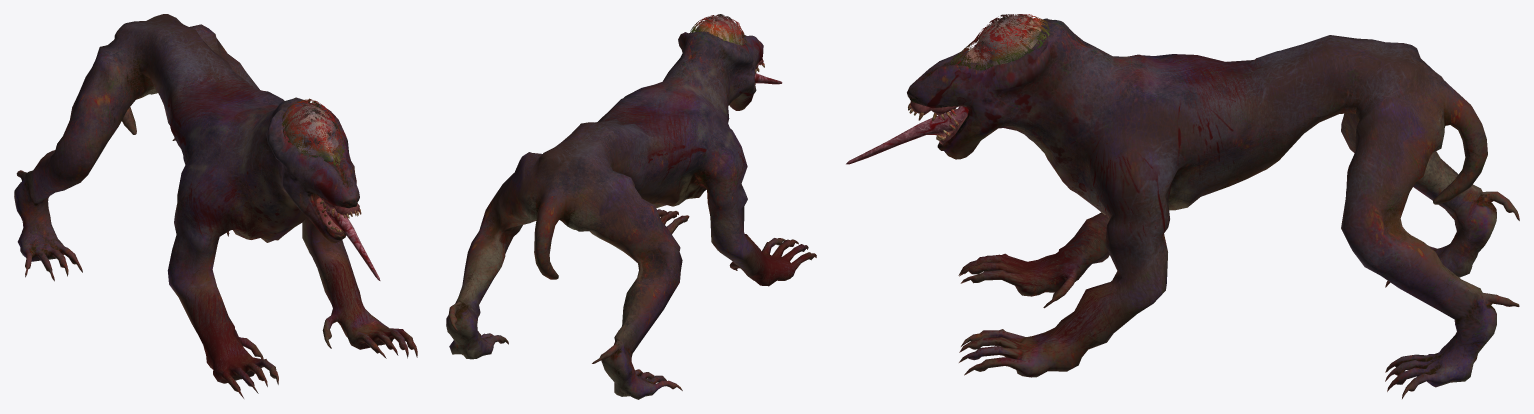
Rendered from hound_no_skeleton.obj.
The picture shows the model from 3 angles, left to right: view 1: azimuth 30°, elevation 25°; view 2: azimuth 150°, elevation 25°; view 3: azimuth 270°, elevation 25°; orthographic projection. The views are drawn at different scales.
Parts seen in each view (by area): view 1: HOUND_HOUND.001; view 2: HOUND_HOUND.001; view 3: HOUND_HOUND.001.
Boxes of the visible parts, bbox=[...] form: HOUND_HOUND.001: bbox=[14, 14, 417, 398]; HOUND_HOUND.001: bbox=[446, 14, 816, 399]; HOUND_HOUND.001: bbox=[846, 14, 1519, 398].
Size of the model in its own units: 4.1 by 4.21 by 8.09.
Materials: 6 (6 with a texture image).
